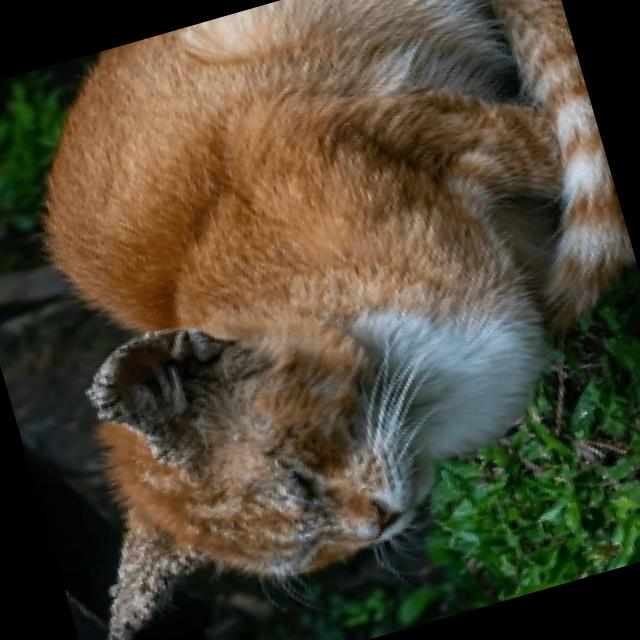Mange: (80, 326, 236, 463), (109, 529, 189, 640), (288, 489, 343, 552)
